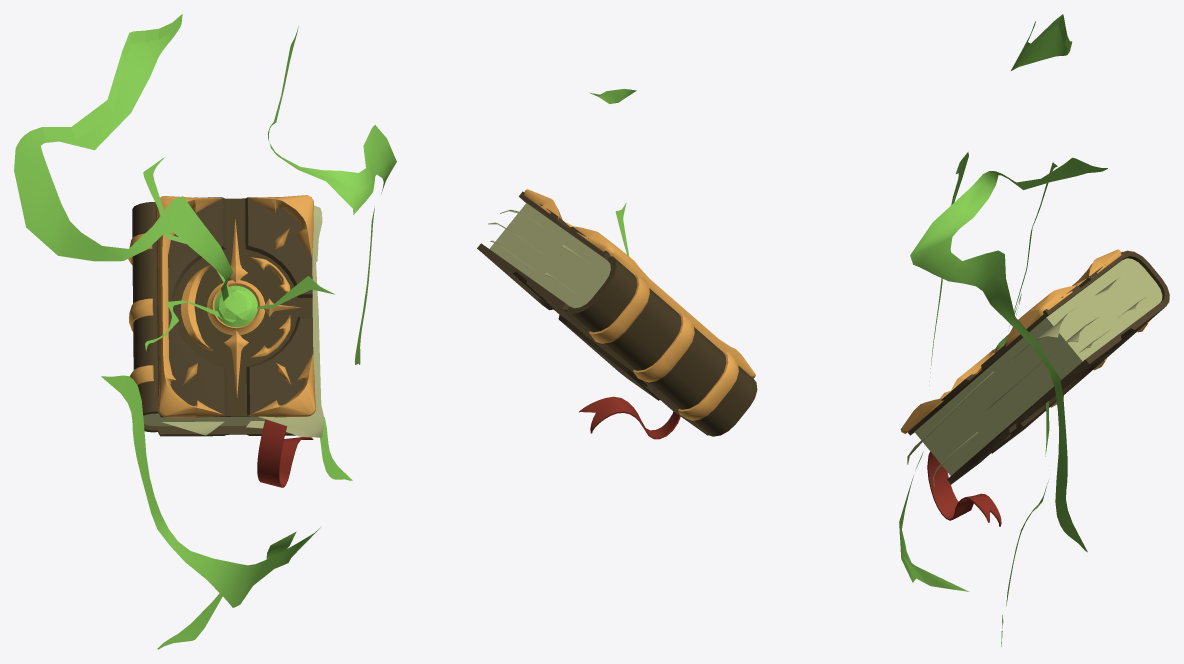
File: objects-evil-book-258.glb
The picture shows the model from 3 angles, left to right: view 1: azimuth 30°, elevation 25°; view 2: azimuth 150°, elevation 25°; view 3: azimuth 270°, elevation 25°; orthographic projection. The views are drawn at different scales.
Visible parts, largest first — view 1: Evil Book; view 2: Evil Book; view 3: Evil Book.
Boxes of the visible parts, left/top/right/bottom form: Evil Book: left=14, top=14, right=396, bottom=649; Evil Book: left=477, top=89, right=757, bottom=439; Evil Book: left=899, top=14, right=1169, bottom=646.
Size of the model in its own units: 2.31 by 3.49 by 1.38.
1 material, 1 textured.
